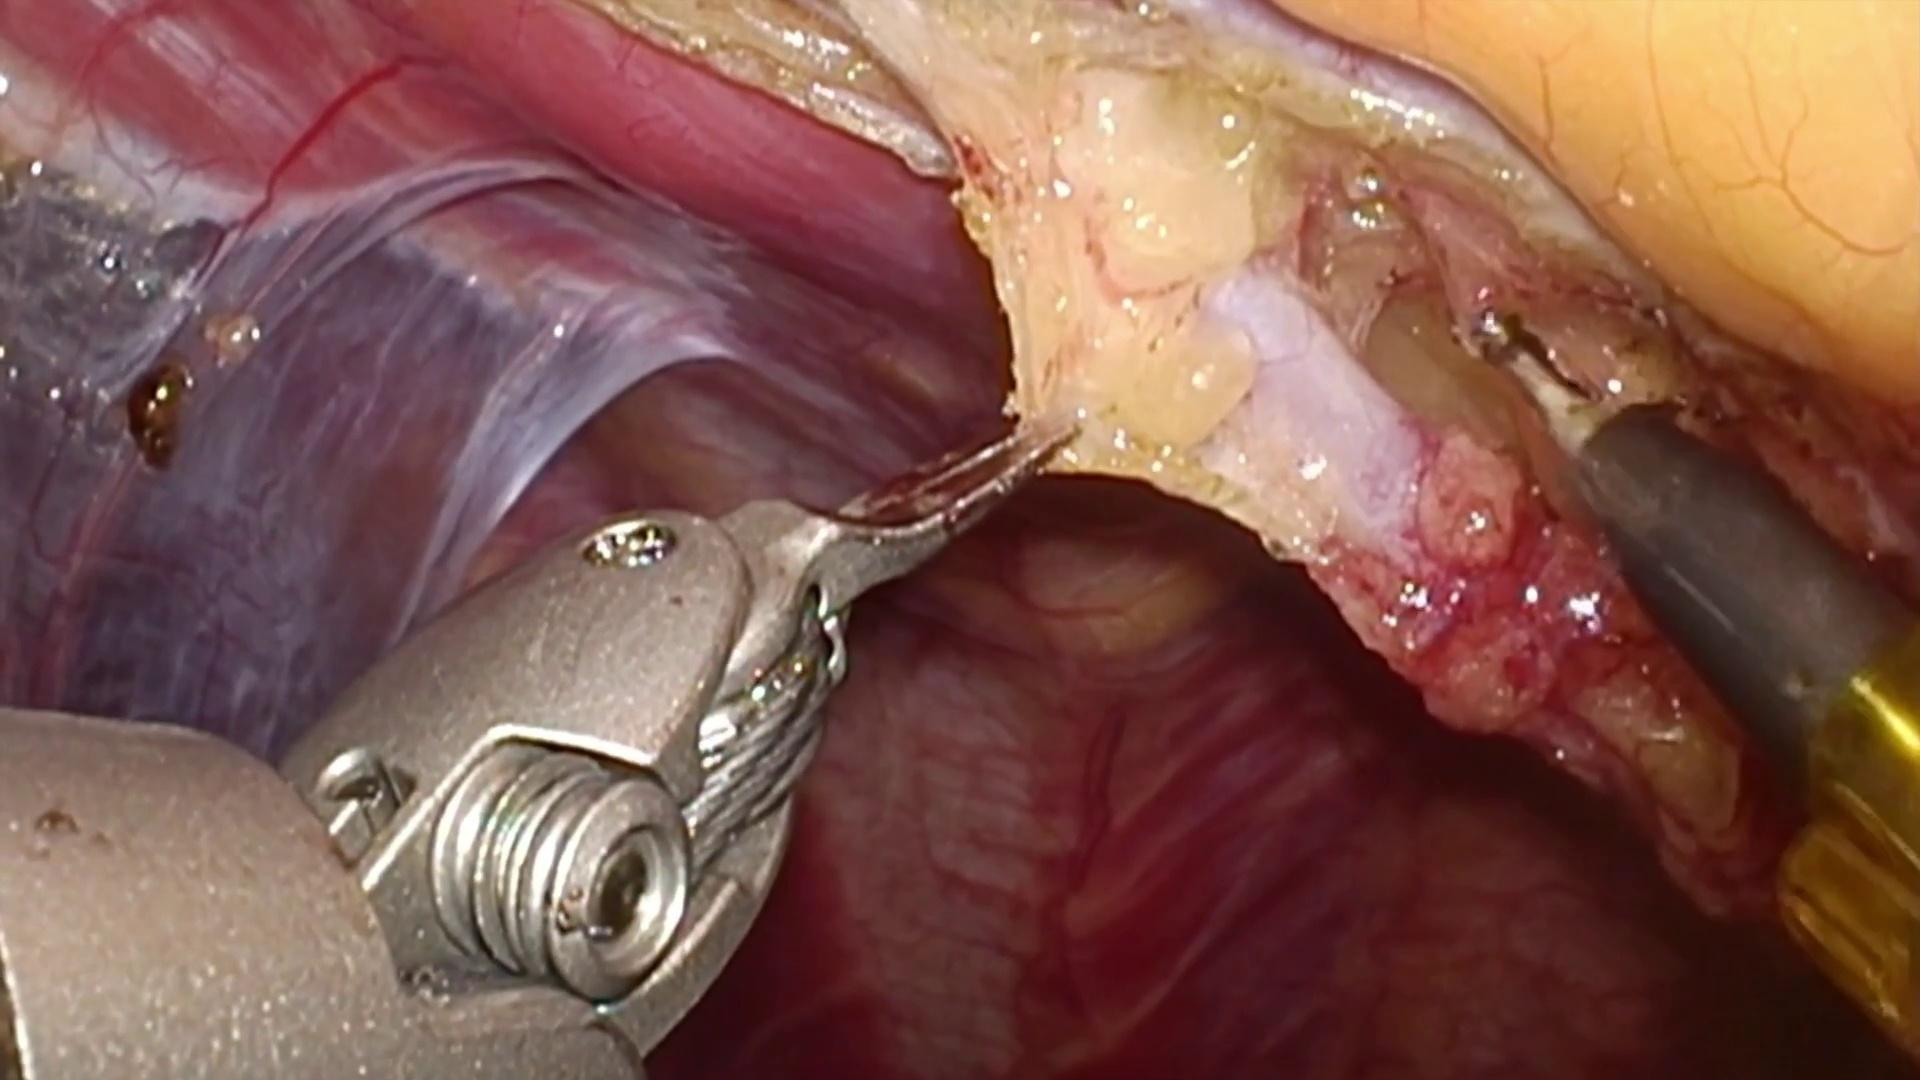Cautery_Spatula: (1458, 293, 1920, 775)
Debakey: (712, 376, 1080, 636)
